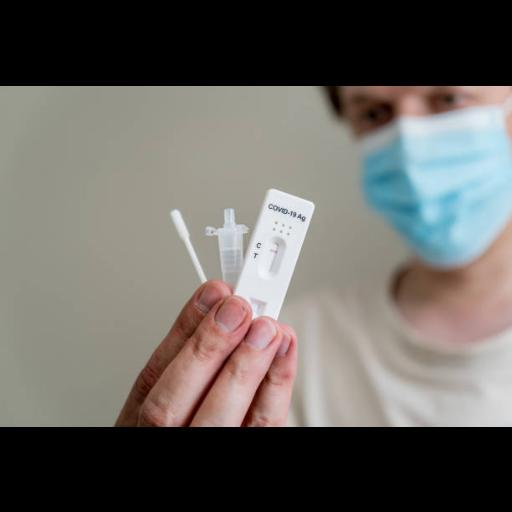Neg: (229, 188, 316, 318)
